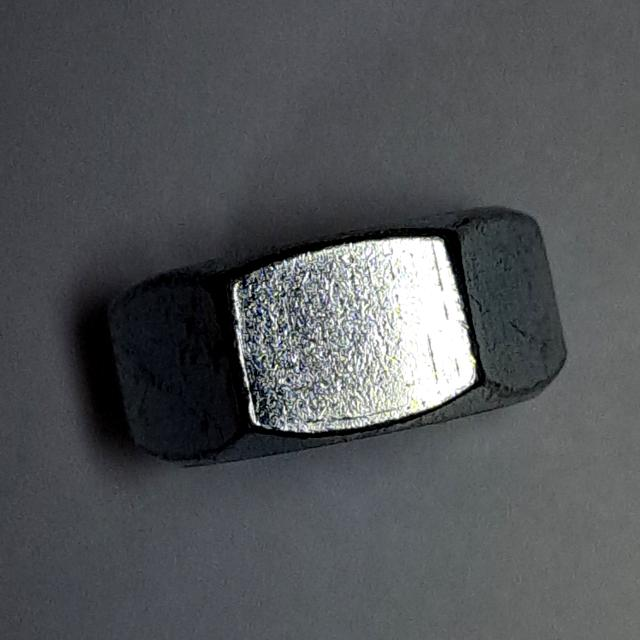Side_Excellent: (94, 194, 581, 488)
